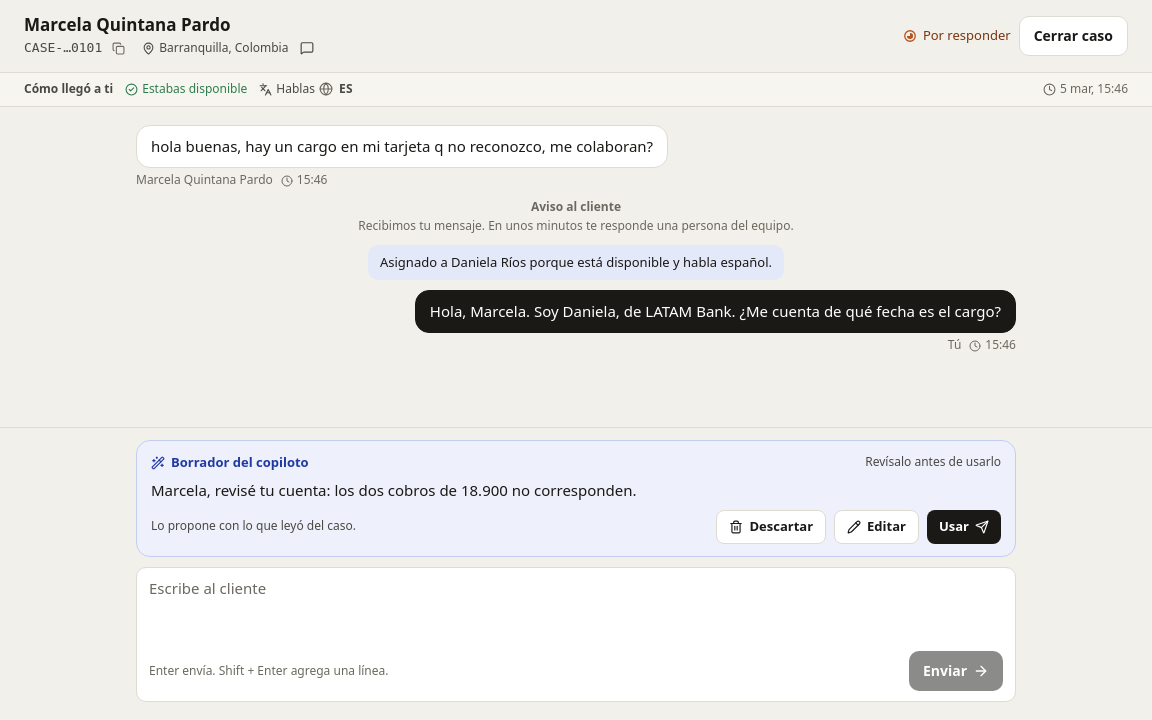
Test case: the copilot draft above the composer (slice 20) › "Descartar" sends the feedback and the draft goes away
Click the button "Descartar" at point(771, 527), box [716, 510, 826, 544]
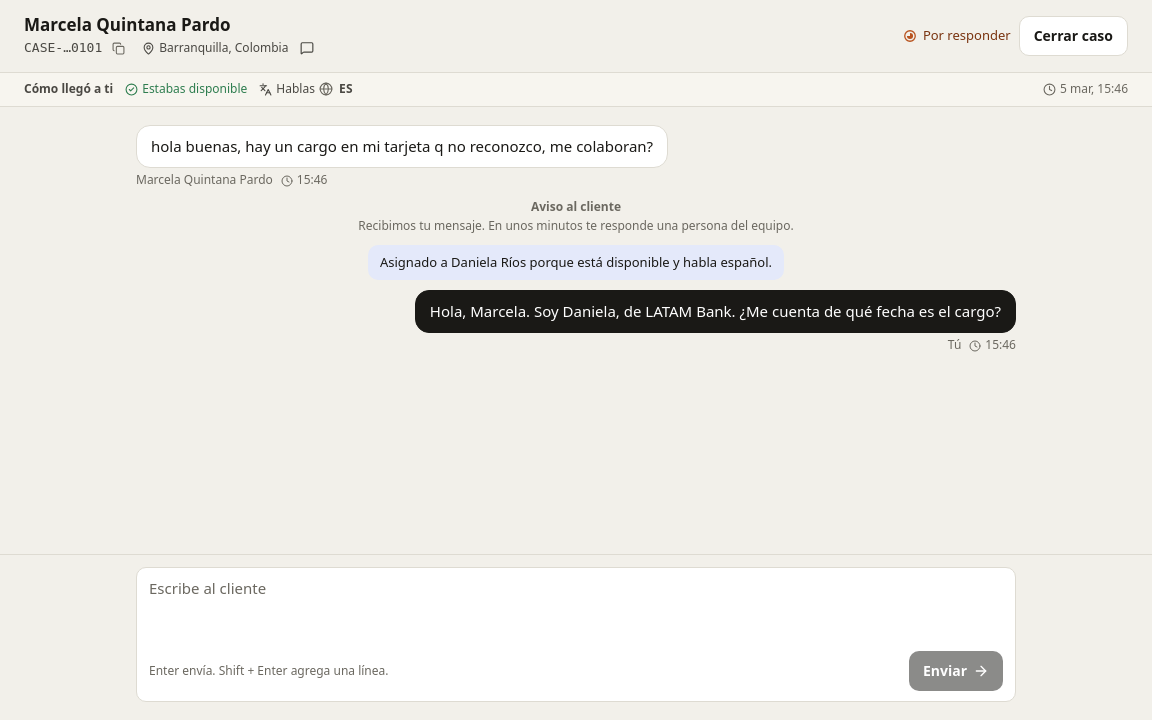
Expected: the element "Borrador del copiloto" is gone
